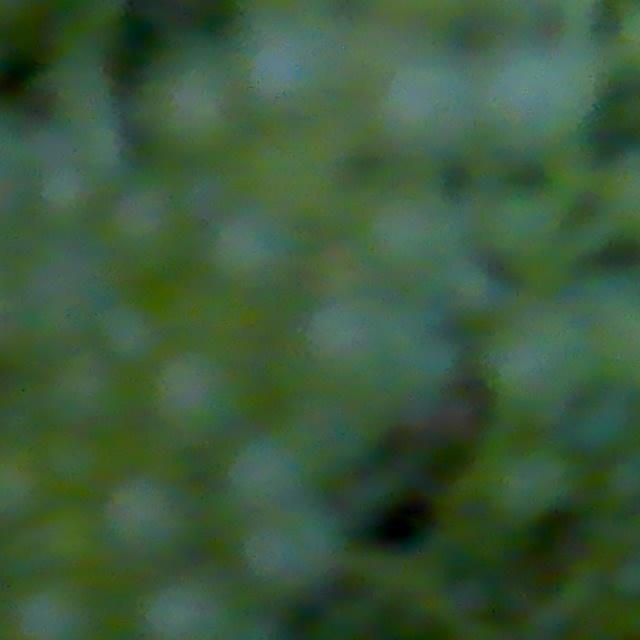SeaGrape: (296, 284, 455, 433), (381, 54, 493, 166), (489, 45, 606, 149), (231, 8, 327, 121), (146, 345, 248, 445), (101, 170, 194, 278), (376, 195, 469, 303), (485, 327, 587, 425), (139, 54, 235, 146), (97, 483, 197, 570), (219, 429, 314, 520), (243, 508, 343, 587), (481, 442, 574, 524), (206, 210, 295, 294), (42, 351, 131, 435), (10, 574, 114, 640), (135, 571, 227, 640), (25, 502, 105, 581), (488, 201, 563, 269), (86, 299, 160, 366), (40, 427, 111, 496), (0, 438, 53, 526)
